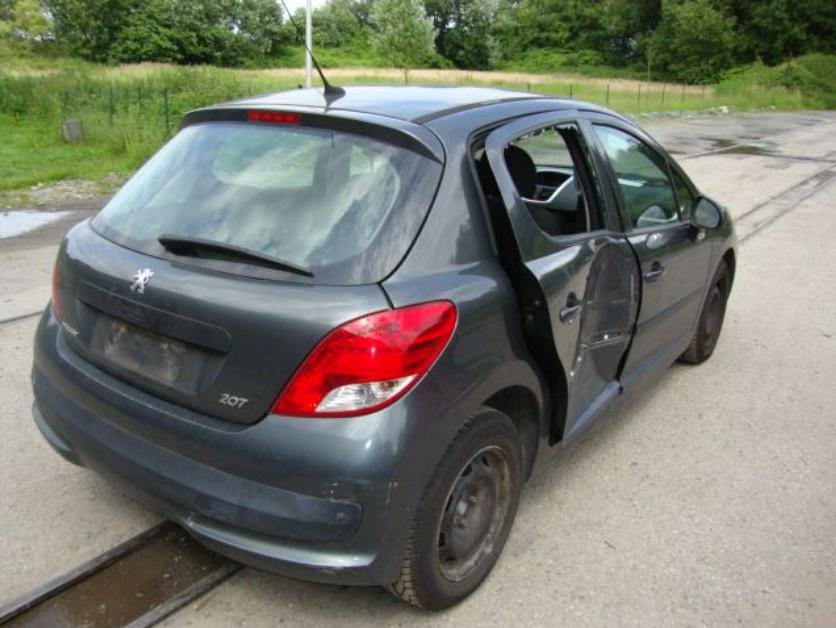Back-bumper: (32, 304, 460, 586)
Back-door: (485, 108, 639, 445)
Back-wheel: (383, 408, 525, 610)
Back-window: (505, 122, 604, 237)
Back-windshield: (93, 121, 442, 285)
Fender: (696, 208, 737, 323)
Front-door: (590, 118, 711, 390)
Front-wheel: (679, 262, 732, 365)
Front-window: (596, 124, 694, 225)
License-plate: (90, 316, 204, 391)
Mirror: (690, 196, 725, 230)
Quarter-panel: (383, 259, 552, 455)
Rocker-panel: (526, 328, 693, 483)
Roof: (226, 85, 549, 121)
Tail-light: (270, 302, 457, 418), (52, 257, 60, 319)
Trunk: (60, 103, 443, 424)
